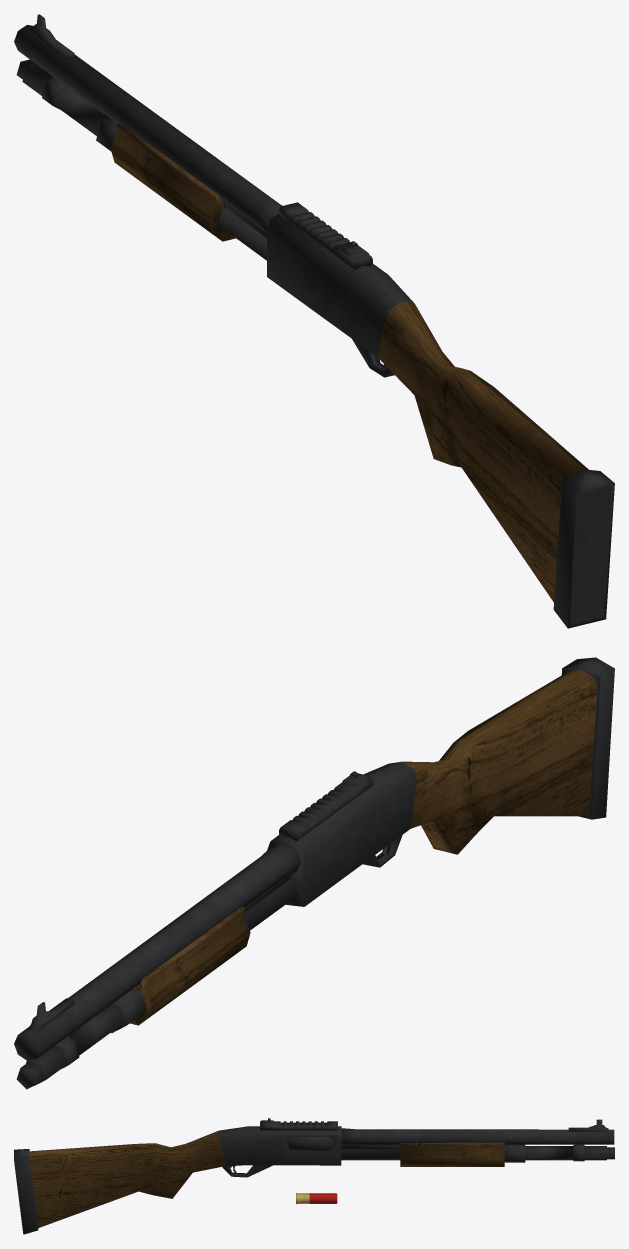
File: Remington-870.fbx
3 renders of one model, top to bottom at view 1: azimuth 30°, elevation 25°; view 2: azimuth 150°, elevation 25°; view 3: azimuth 270°, elevation 25°, orthographic. The views are drawn at different scales.
Parts seen in each view (by area): view 1: Base, Barrel, Bolt, PicatinnyRail; view 2: Base, Barrel, Bolt, PicatinnyRail; view 3: Base, Barrel, Bolt, PicatinnyRail, ShotgunBullet.
Boxes of the visible parts, x1,y1,x2,y2 form: Base: (267,214,614,628); Barrel: (14,14,282,260); Bolt: (110,122,266,241); PicatinnyRail: (279,202,372,269); Base: (267,657,614,906); Barrel: (14,841,301,1089); Bolt: (130,876,289,1025); PicatinnyRail: (279,777,372,841); Base: (14,1126,341,1234); Barrel: (341,1119,614,1162); Bolt: (287,1137,504,1166); PicatinnyRail: (260,1121,337,1130); ShotgunBullet: (296,1193,337,1204).
Size of the model in its own units: 84.55 by 176 by 860.
Materials: 2 (2 with a texture image).
